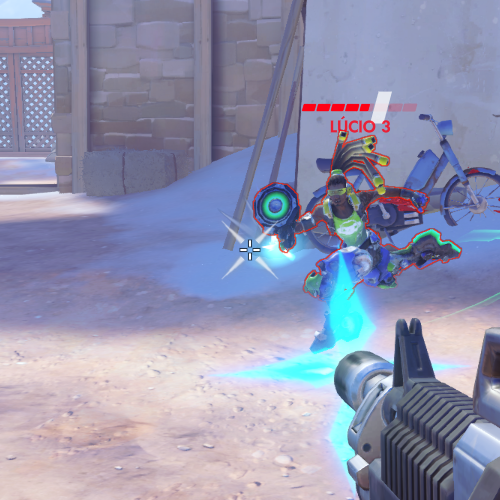hpbar: (302, 103, 417, 113)
